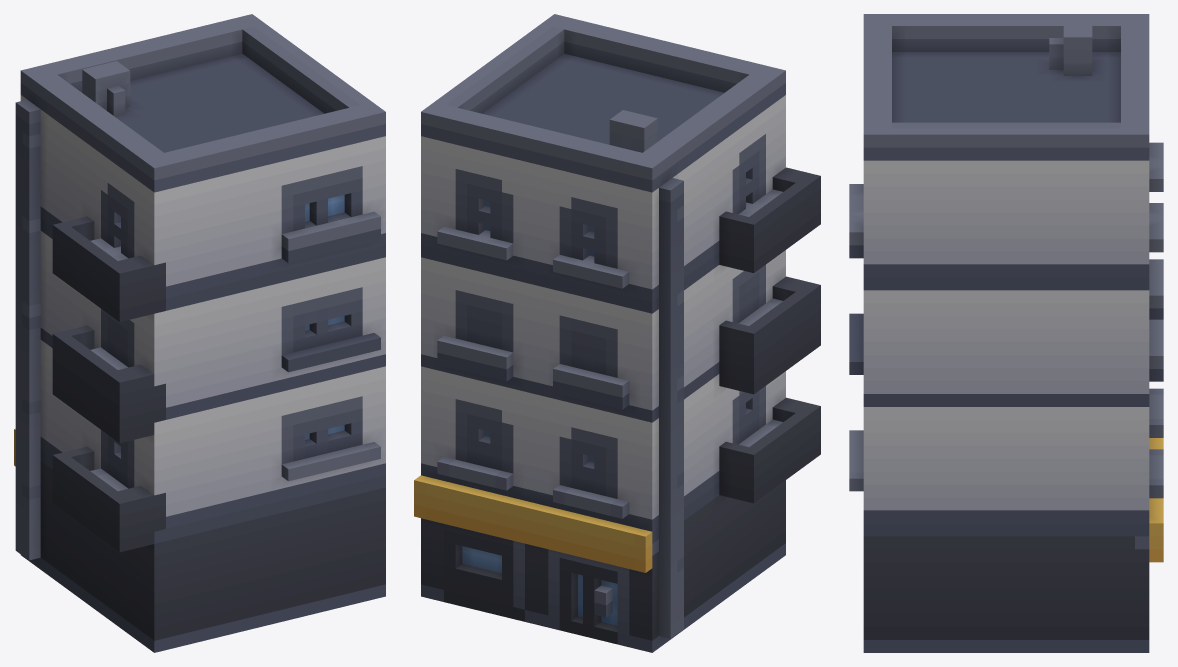
The model's file is building_g.glb.
The picture shows the model from 3 angles, left to right: view 1: azimuth 30°, elevation 25°; view 2: azimuth 150°, elevation 25°; view 3: azimuth 270°, elevation 25°; orthographic projection. The views are drawn at different scales.
Parts seen in each view (by area): view 1: voxels; view 2: voxels; view 3: voxels.
Part boxes in pixels (bbox=[...]): voxels: bbox=[14, 14, 385, 652]; voxels: bbox=[414, 14, 820, 652]; voxels: bbox=[849, 14, 1163, 652].
Size of the model in its own units: 0.9735 by 1.74 by 0.9311.
